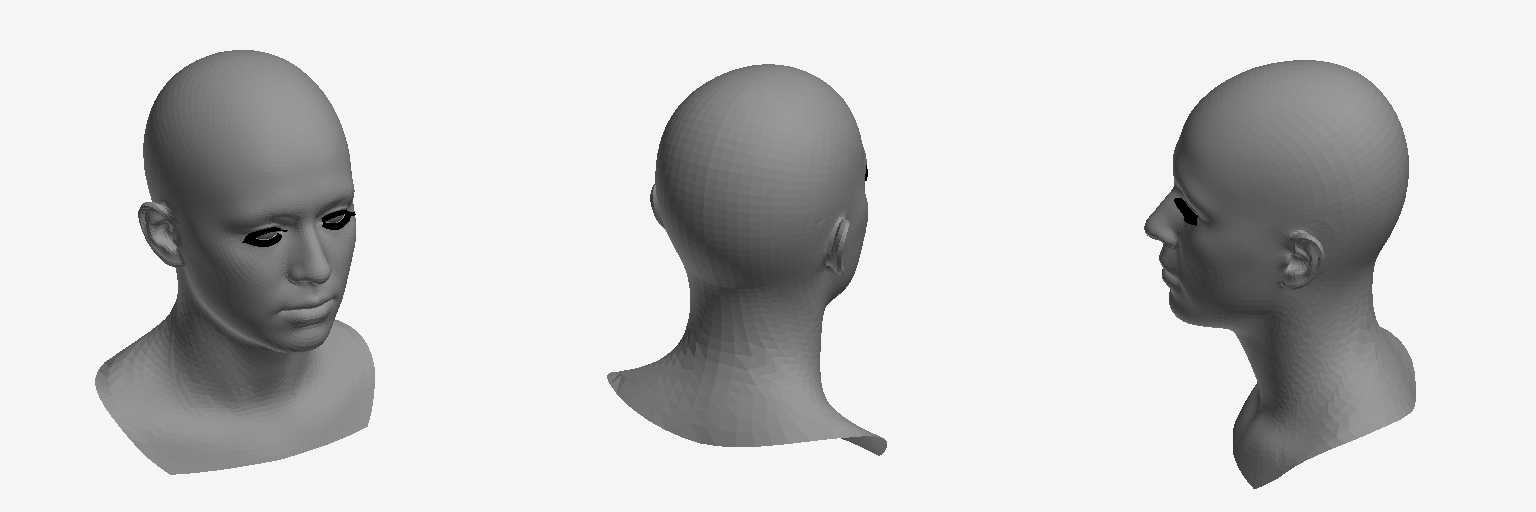
Rendered from identity063.obj.
3 renders of one model, left to right at view 1: azimuth 30°, elevation 25°; view 2: azimuth 150°, elevation 25°; view 3: azimuth 270°, elevation 25°, orthographic.
Bounding box in the file's own units: 24.84 × 33.81 × 22.3.